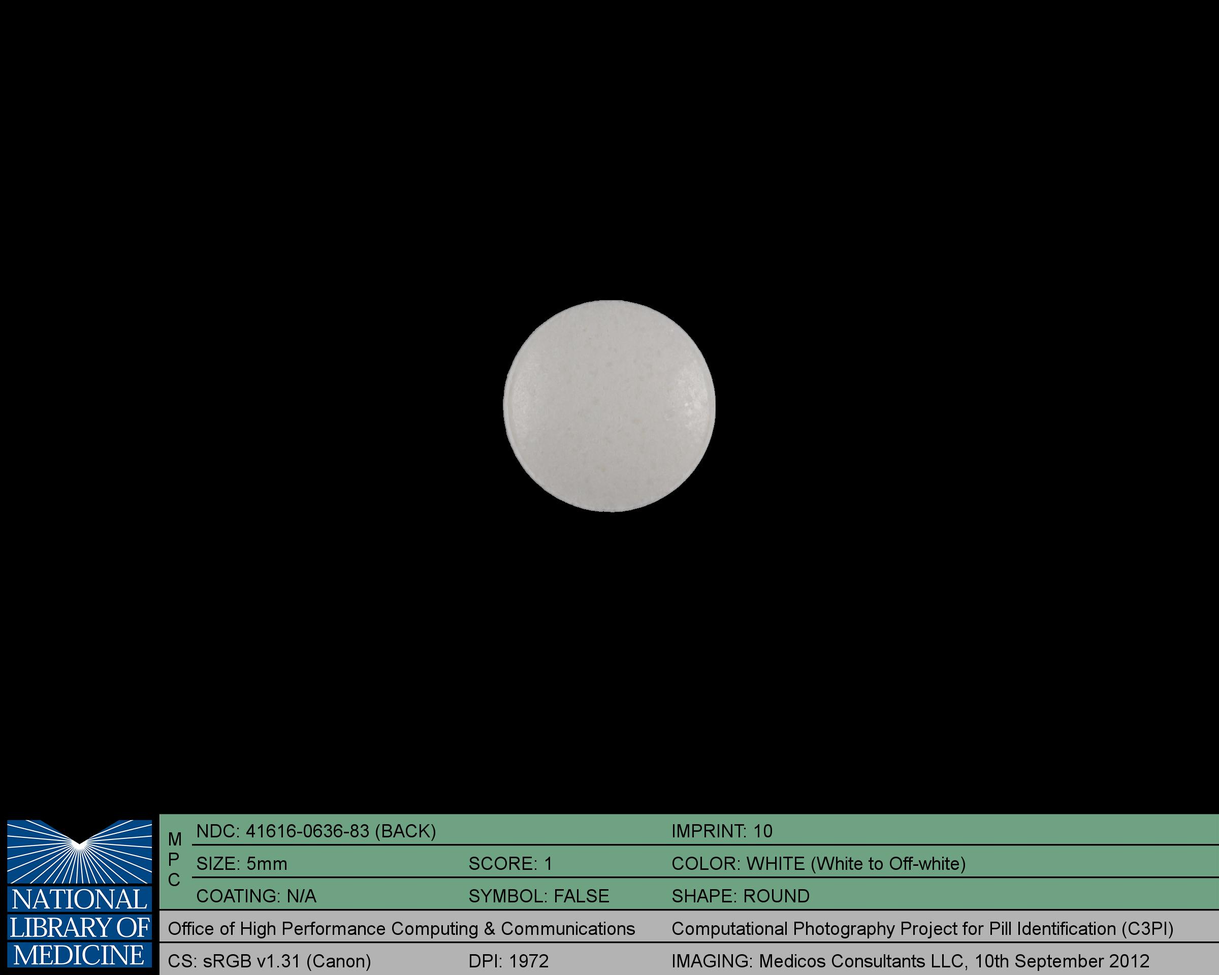Pill: (491, 286, 726, 521)
